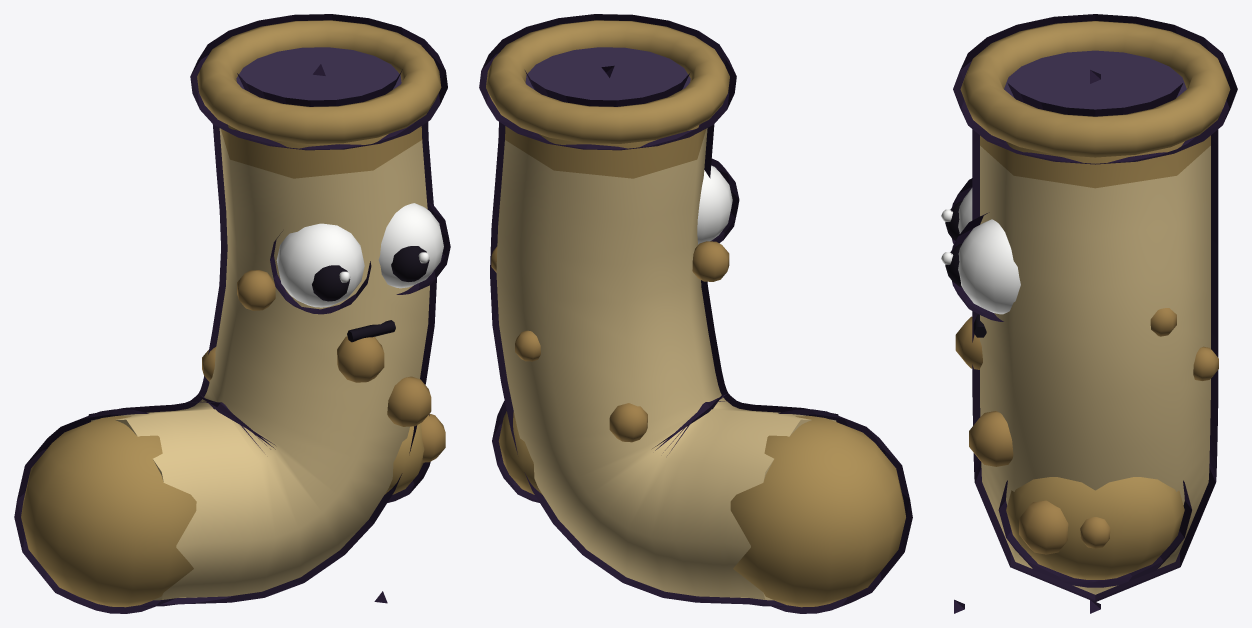
Rendered from CrustyCrew_L.glb.
3 views of the same model, side by side, from view 1: azimuth 30°, elevation 25°; view 2: azimuth 150°, elevation 25°; view 3: azimuth 270°, elevation 25° (orthographic). The views are drawn at different scales.
Parts seen in each view (by area): view 1: CrustyCrew_L, CrustyCrew_L_Outline; view 2: CrustyCrew_L, CrustyCrew_L_Outline; view 3: CrustyCrew_L, CrustyCrew_L_Outline.
Part boxes in pixels (x1,y1,x2,y2): CrustyCrew_L: [21, 20, 445, 607]; CrustyCrew_L_Outline: [14, 14, 450, 613]; CrustyCrew_L: [486, 20, 905, 607]; CrustyCrew_L_Outline: [479, 14, 912, 613]; CrustyCrew_L: [941, 21, 1230, 594]; CrustyCrew_L_Outline: [948, 14, 1237, 601].
Size of the model in its own units: 3.77 by 4.62 by 2.18.
1 material, 1 textured.
